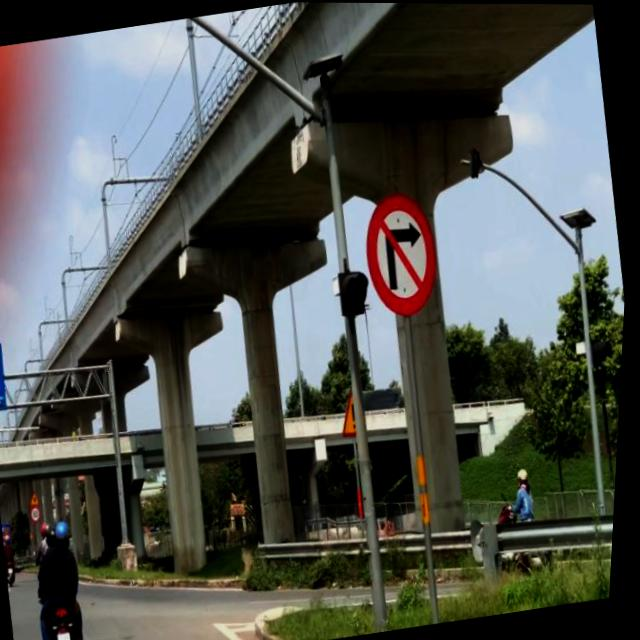Cam re phai: (359, 190, 450, 322)
